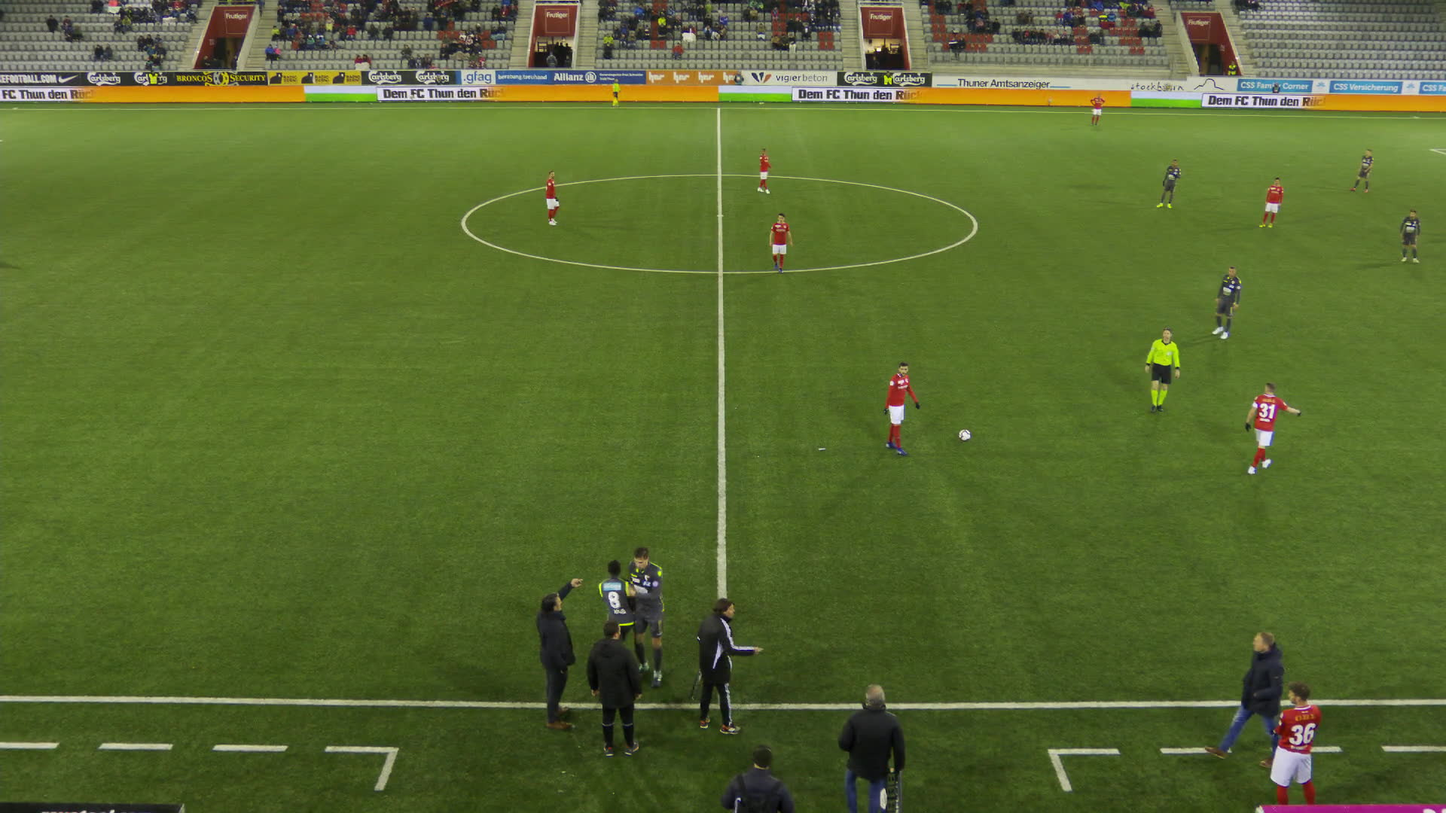ball: (958, 428, 971, 440)
player: (1268, 682, 1321, 804), (624, 547, 667, 679), (1243, 382, 1301, 474), (599, 555, 645, 671), (883, 361, 920, 453), (1210, 264, 1242, 338), (767, 212, 792, 275), (1257, 176, 1283, 227), (1155, 159, 1181, 208), (1398, 209, 1420, 262), (541, 169, 561, 224), (1348, 148, 1372, 192), (757, 148, 773, 193), (1089, 93, 1104, 126)
referee: (1141, 328, 1182, 417), (611, 78, 621, 107)
